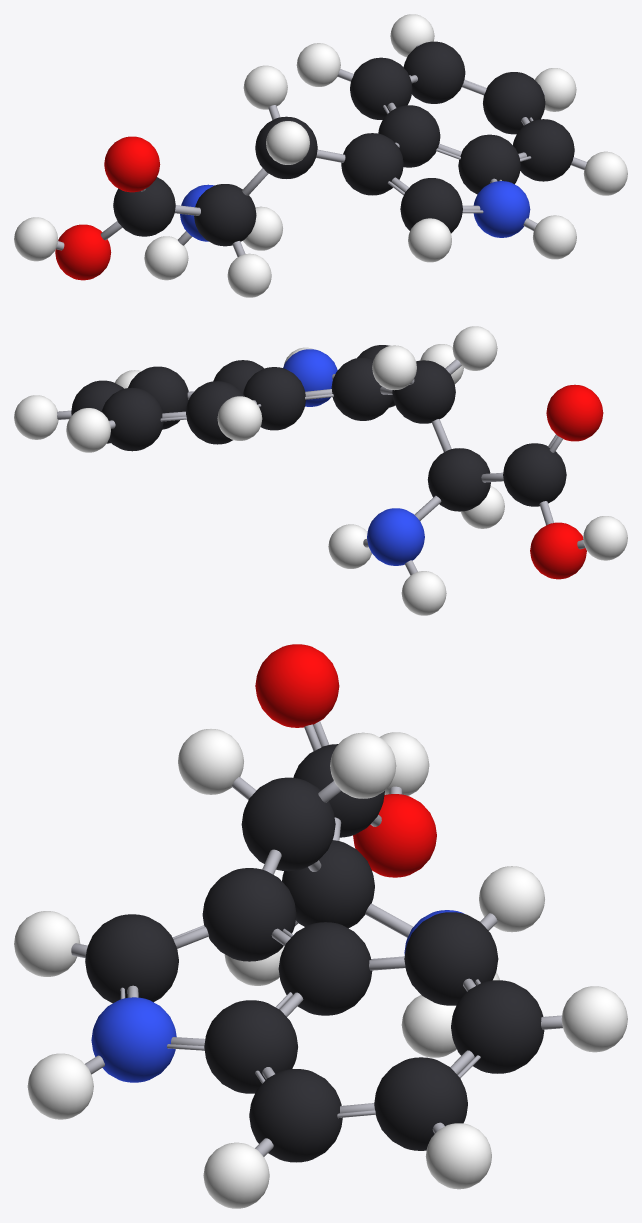
The model's file is tryptophan.glb.
The picture shows the model from 3 angles, top to bottom: view 1: azimuth 30°, elevation 25°; view 2: azimuth 150°, elevation 25°; view 3: azimuth 270°, elevation 25°; orthographic projection. The views are drawn at different scales.
Parts seen in each view (by area): view 1: C3, C1, C7, C9, C8, C10, C6, C12, C11, N5, O13, C4 (+15 smaller); view 2: C12, C1, C9, C11, C2, C3, N0, O13, O14, C10, C7, N5 (+12 smaller); view 3: C7, C11, C9, C3, C2, C10, C4, C6, C8, N5, O13, C1 (+13 smaller).
Part boxes in pixels (box(x1,y1,x2,y2)): C3: box(341, 133, 403, 195); C1: box(194, 184, 256, 246); C7: box(513, 119, 574, 181); C9: box(403, 41, 465, 103); C8: box(483, 72, 545, 134); C10: box(350, 57, 412, 119); C6: box(458, 134, 520, 194); C12: box(113, 177, 175, 236); C11: box(378, 105, 440, 167); N5: box(473, 181, 530, 237); O13: box(104, 136, 160, 192); C4: box(400, 178, 462, 233); C12: box(503, 443, 566, 506); C1: box(427, 448, 490, 511); C9: box(101, 387, 163, 451); C11: box(243, 367, 305, 430); C2: box(392, 360, 455, 423); C3: box(331, 357, 392, 420); N0: box(367, 508, 424, 565); O13: box(546, 384, 603, 441); O14: box(530, 522, 586, 579); C10: box(186, 381, 244, 444); C7: box(128, 366, 188, 429); N5: box(283, 349, 337, 406); C7: box(249, 1069, 342, 1162); C11: box(278, 922, 372, 1015); C9: box(451, 980, 544, 1073); C3: box(202, 868, 296, 961); C2: box(241, 777, 335, 871); C10: box(404, 912, 498, 1005); C4: box(85, 914, 178, 1003); C6: box(204, 1000, 297, 1093); C8: box(374, 1057, 467, 1150); N5: box(91, 997, 176, 1082); O13: box(255, 644, 339, 727); C1: box(282, 840, 374, 928).
Bounding box in the file's own units: 10.86 × 3.97 × 6.66.
